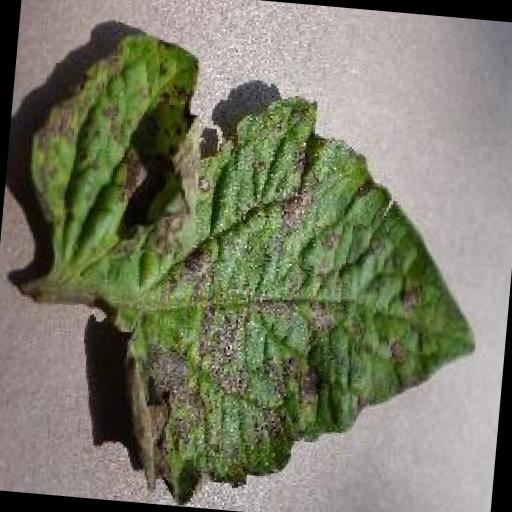Early Blight: (0, 18, 504, 512)
